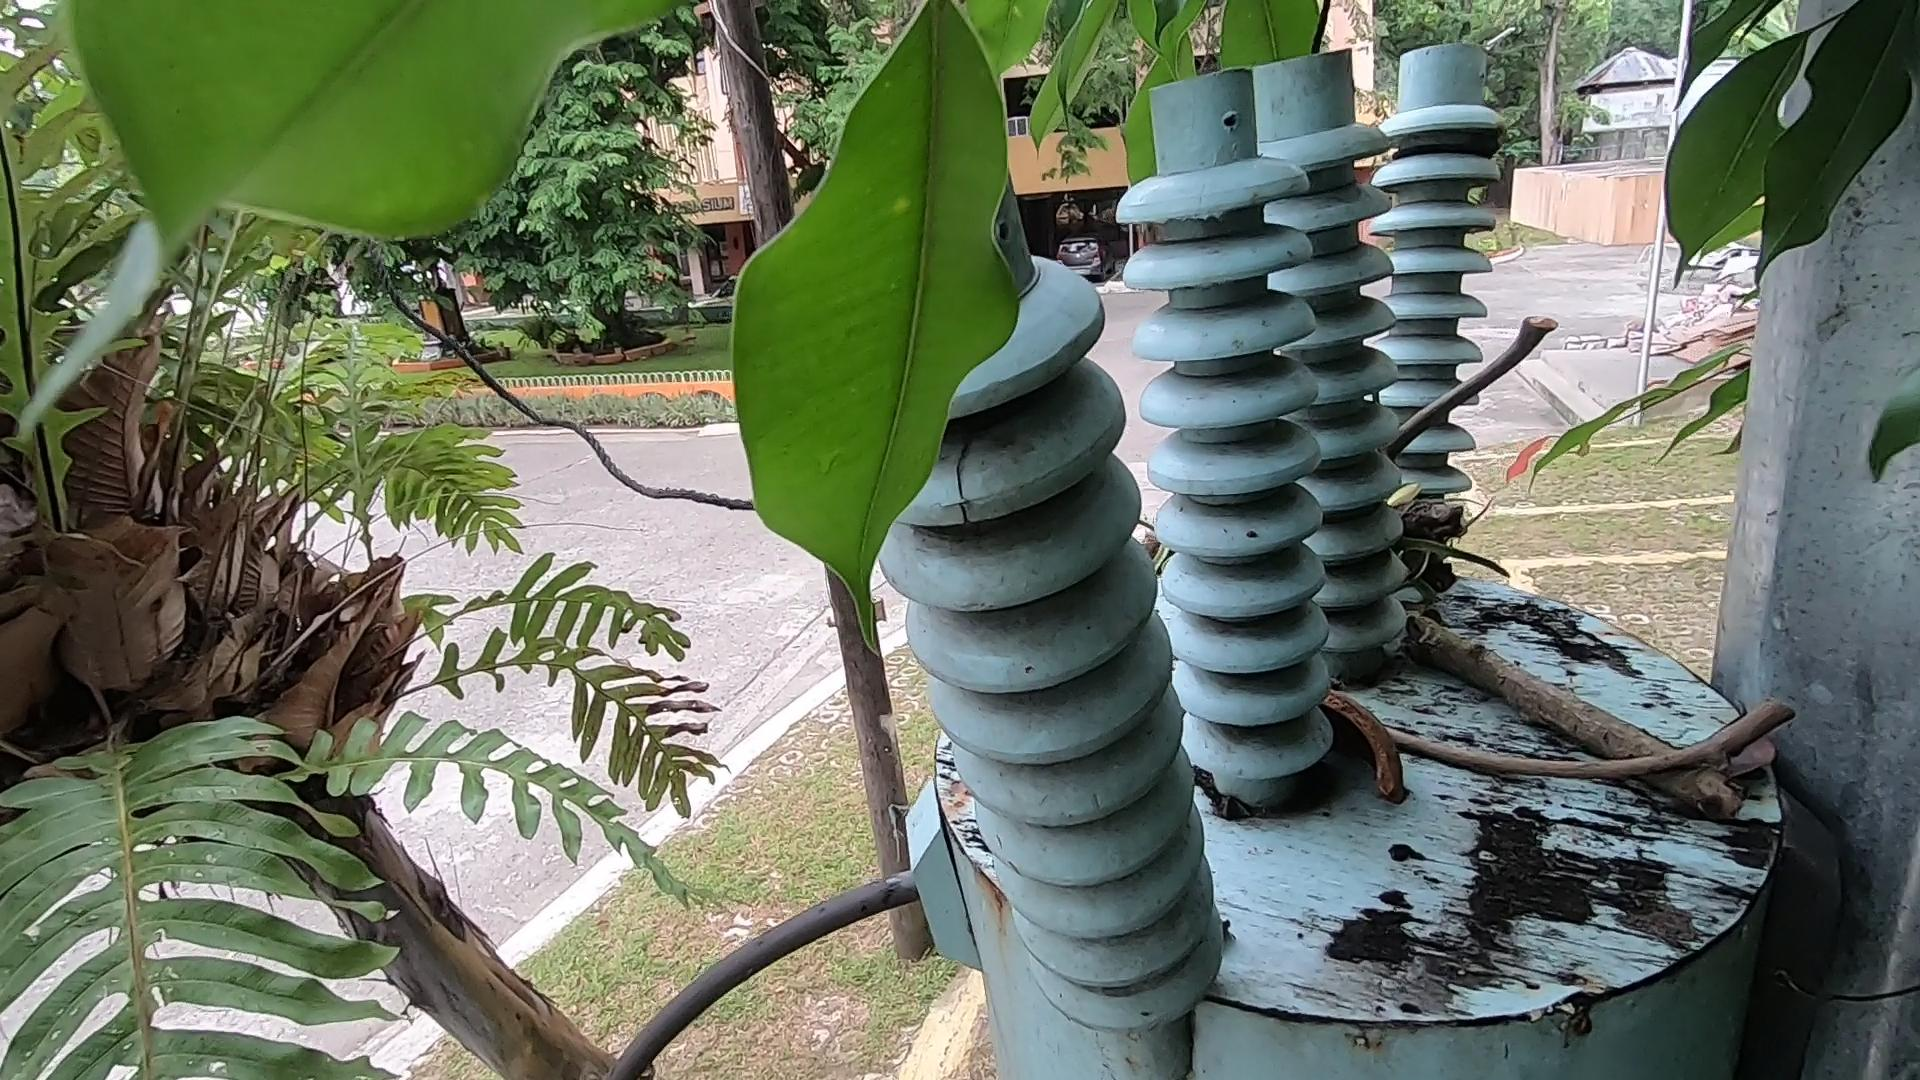branch with leaves: (1414, 419, 1789, 862)
leaf: (1714, 698, 1797, 844)
mahogany fruit: (1294, 674, 1422, 807)
tree branch: (1304, 113, 1729, 483), (1304, 694, 1826, 844)
